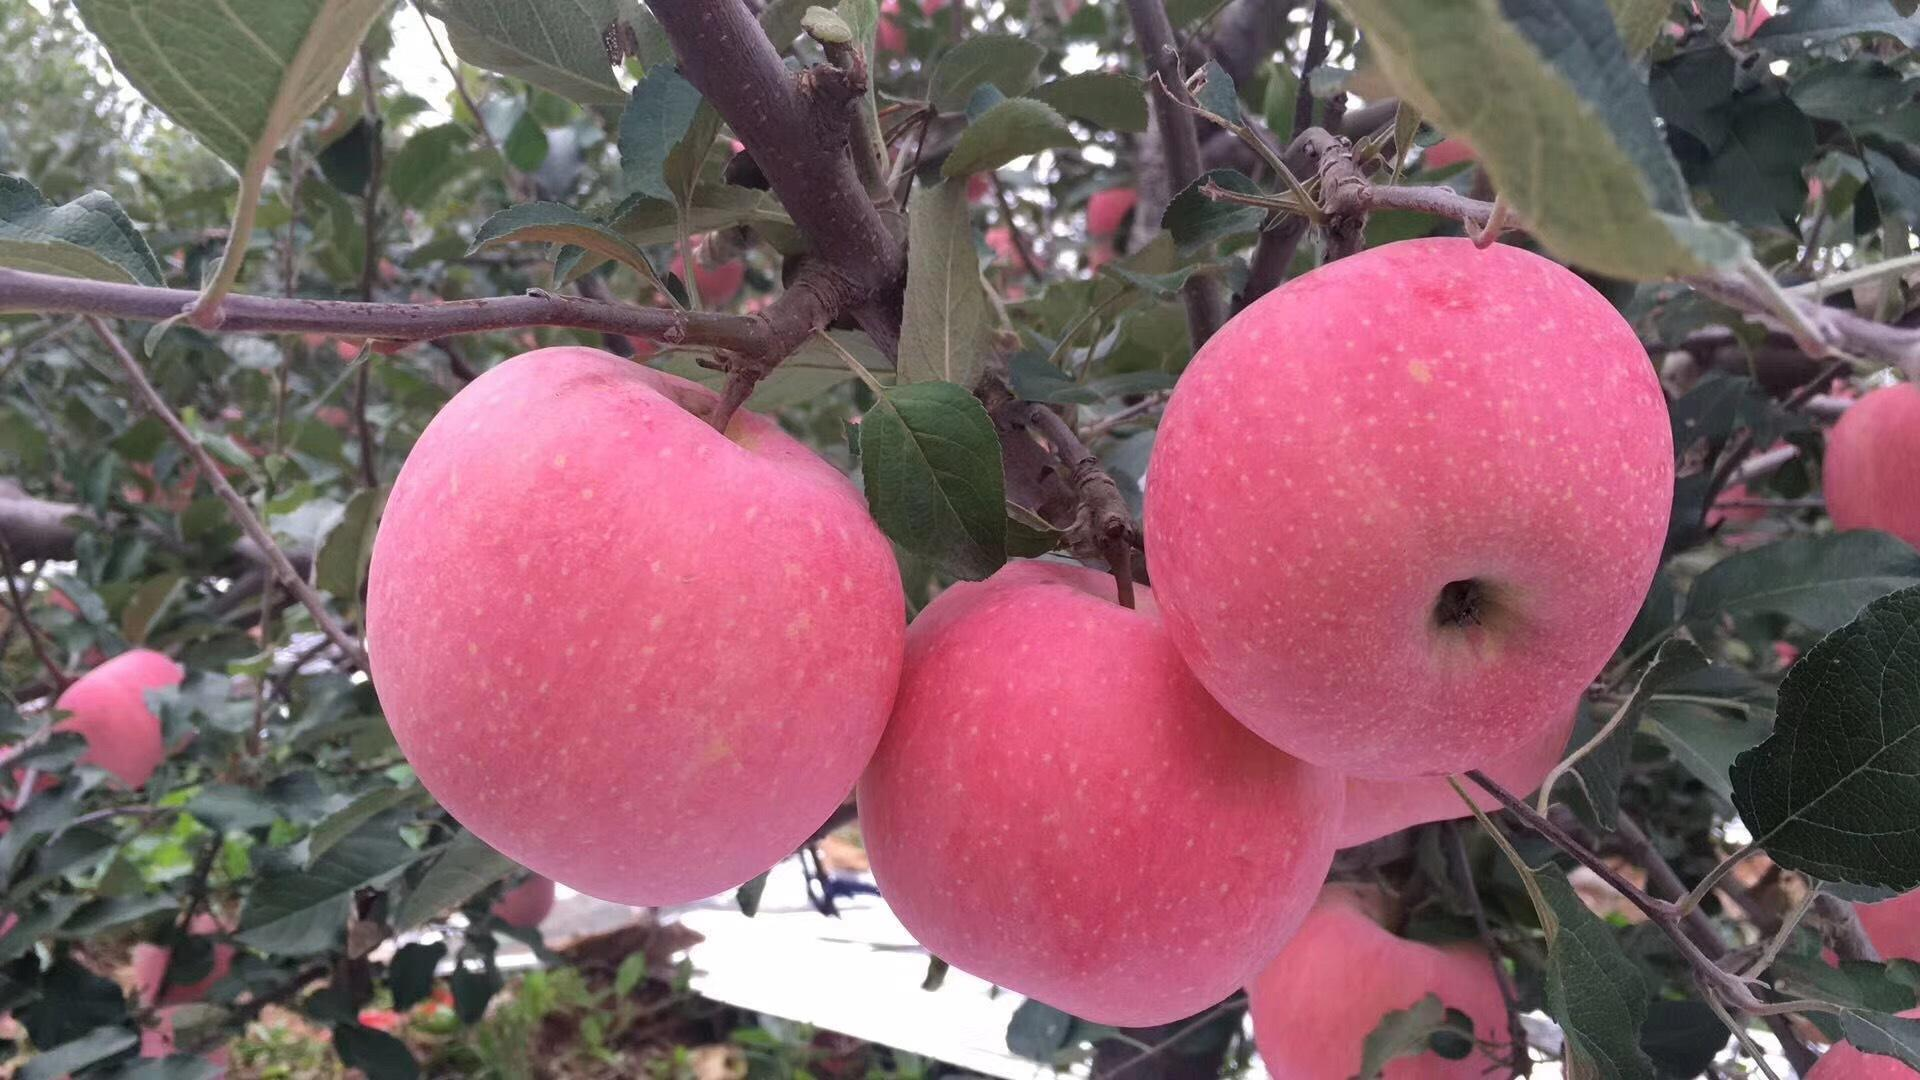apple: (360, 336, 905, 901), (1138, 233, 1672, 789), (861, 562, 1344, 1022), (55, 647, 189, 789)
